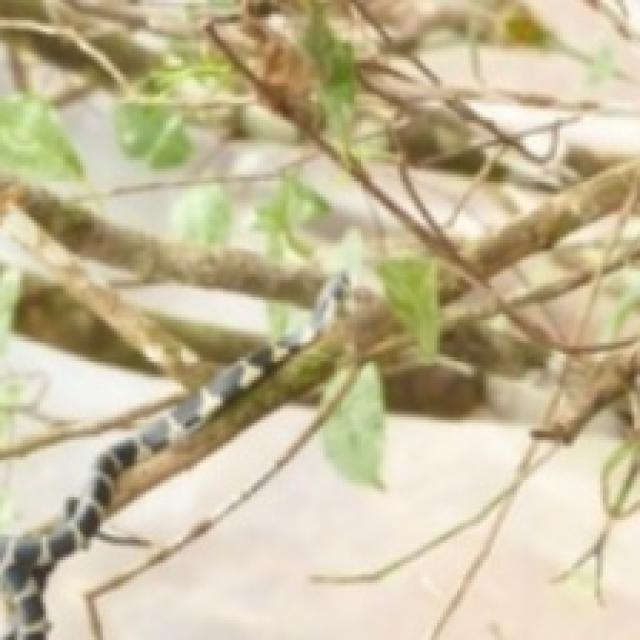king cobra: (0, 346, 286, 637)
